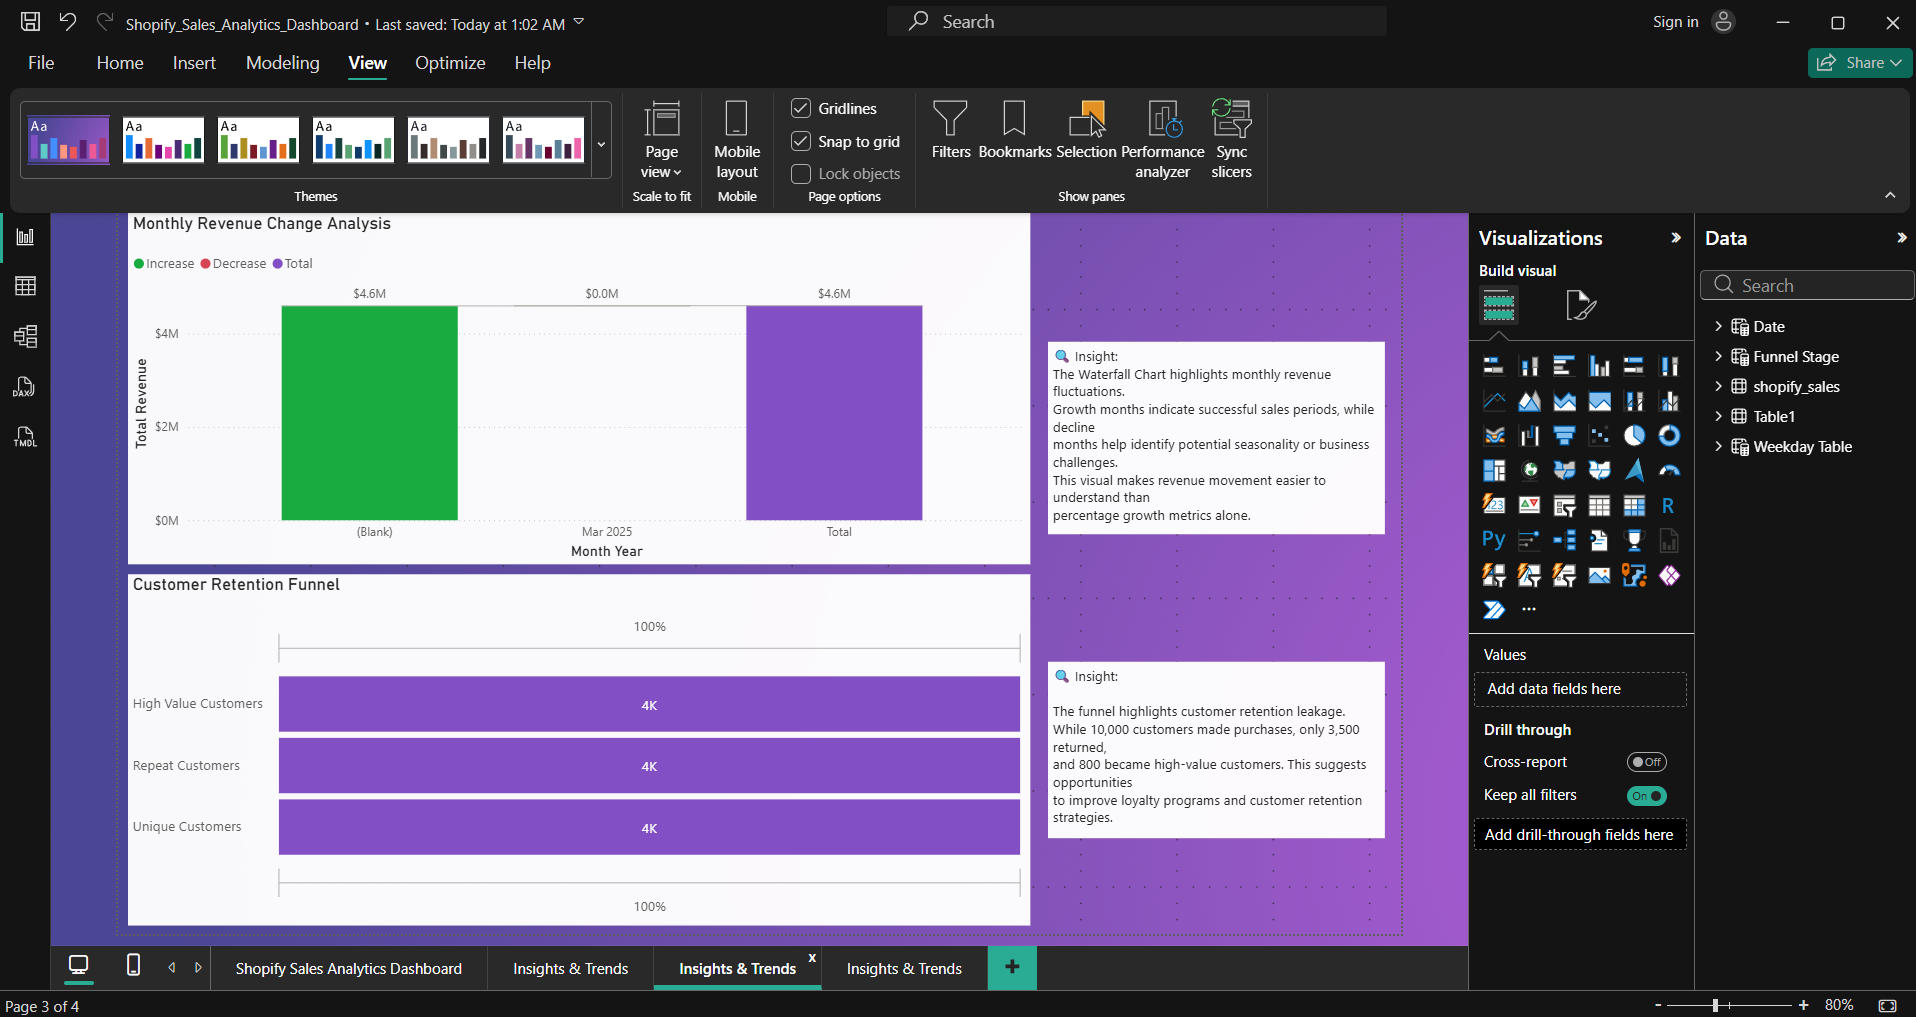

This screenshot's page, from the dashboard's own definition file:
{"tool":"powerbi","page":{"name":"Insights & Trends","canvas":[1280,720],"ordinal":2},"visuals":[{"type":"waterfallChart","title":"Monthly Revenue Change Analysis","fields":{"Category":["Date.Month Year"],"Y":["Date.Total Revenue"]},"box":[10,0,900,350],"z":0},{"type":"textbox","box":[928,96,336,176],"z":1000},{"type":"funnel","title":"Customer Retention Funnel","fields":{"Category":["Funnel Stage.Stage"],"Y":["shopify_sales.Customer Count"]},"box":[10,360,900,350],"z":2000},{"type":"textbox","box":[912,448,336,176],"z":3000}]}

Visuals, with their boxes on the page's 1280x720 design canvas (x1, y1, x2, y2). These are canvas units, not pixel positions in the 1916x1017 screenshot, which may show the page scaled, cropped or inside an application window:
"Monthly Revenue Change Analysis" waterfallChart: [x1=10, y1=0, x2=910, y2=350]
textbox: [x1=928, y1=96, x2=1264, y2=272]
"Customer Retention Funnel" funnel: [x1=10, y1=360, x2=910, y2=710]
textbox: [x1=912, y1=448, x2=1248, y2=624]
